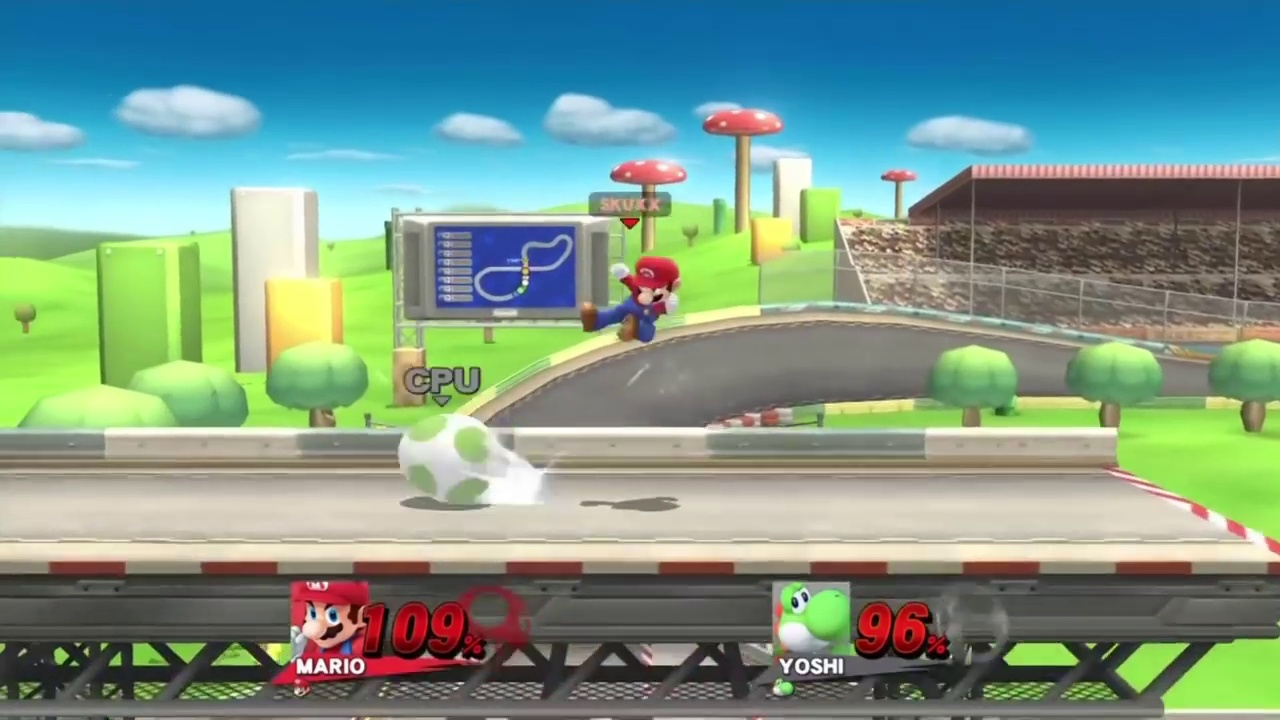Mario: (581, 256, 688, 348)
